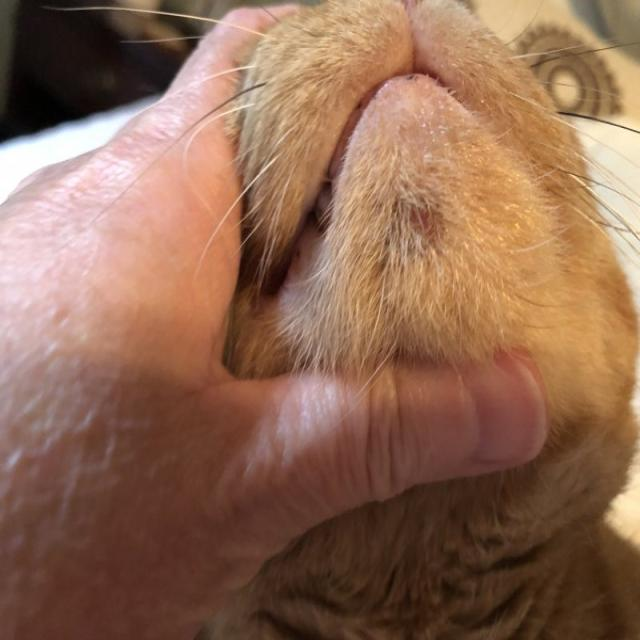cat-acne: (388, 187, 452, 255)
